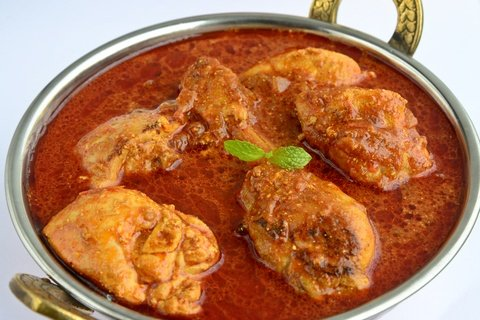chicken_curry: (103, 58, 414, 292)
